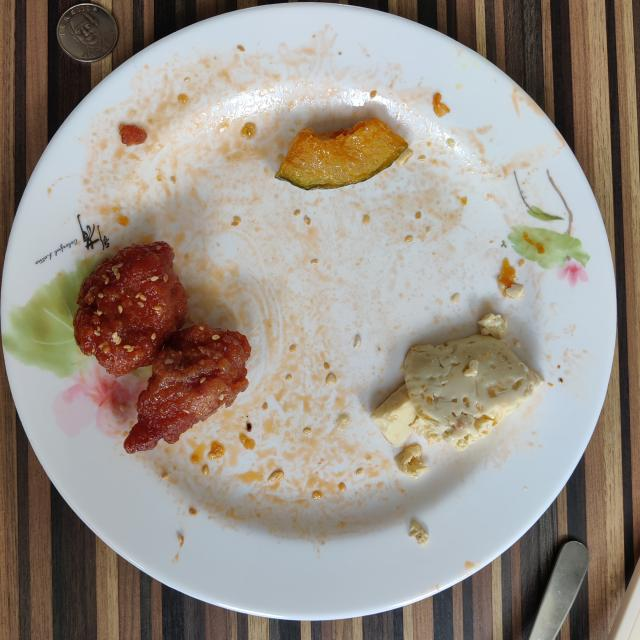coin: (56, 4, 118, 62)
pumpkin: (275, 118, 408, 190)
